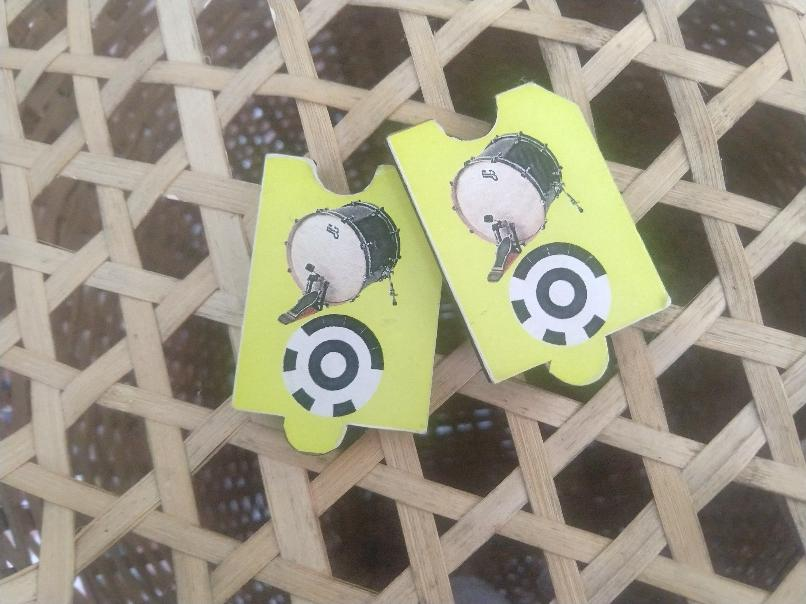bumbo: (384, 74, 673, 394), (233, 142, 450, 454)
